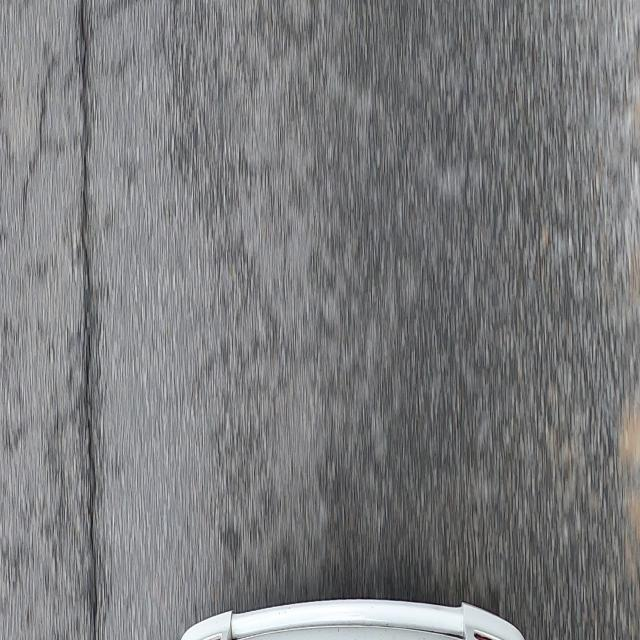Retak-Memanjang: (77, 1, 103, 640)
